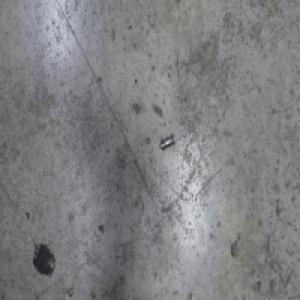Bolt: (159, 132, 175, 151)
